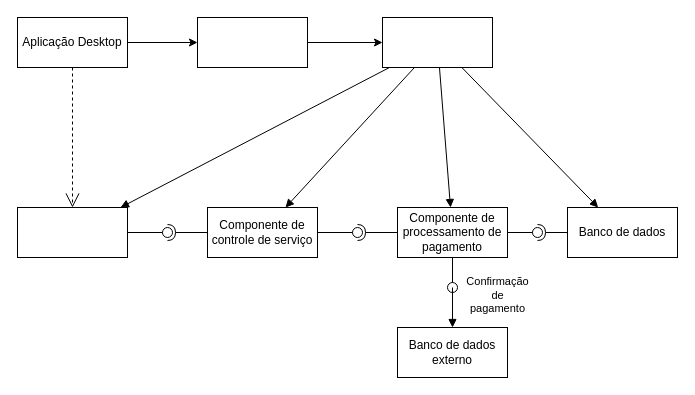
This 695x395 diagram has some shape labels left out. The shapes that lost their labels are listed below. From the top down, each one's centre as x and y in pixels, then its label:
At point (252, 42): "Redis".
At point (437, 42): "API".
At point (72, 232): "Componente de controle de cliente".
